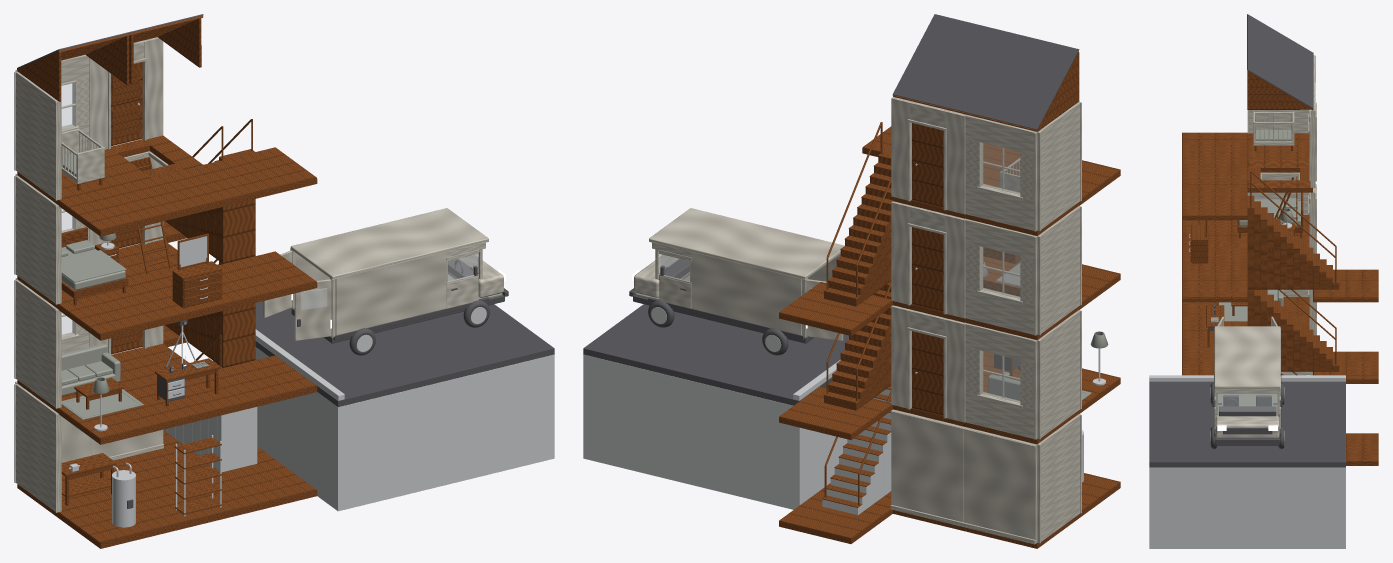
The model's file is paranormal-investigation-house-investiga-30208f4c-starter-scene__26895.glb.
3 renders of one model, left to right at view 1: azimuth 30°, elevation 25°; view 2: azimuth 150°, elevation 25°; view 3: azimuth 270°, elevation 25°, orthographic. The views are drawn at different scales.
Parts seen in each view (by area): view 1: 059-cutaway-road-plinth/0, 060-investigation-van-rear-open/2, 059-cutaway-road-plinth/1, 010-exterior-wall/0, 020-exterior-wall/0, 030-exterior-wall/0, 038-exterior-wall/0, 018-house-staircase/0, 028-house-staircase/0, 008-basement-stair/0, 037-interior-door/0, 033-wood-floor/1 (+50 smaller); view 2: 059-cutaway-road-plinth/0, 060-investigation-van-rear-open/2, 059-cutaway-road-plinth/1, 006-interior-wall/0, 007-fuse-box-wall/0, 052-roof-slope/1, 053-roof-slope/1, 036-exterior-window/0, 016-exterior-window/0, 026-exterior-window/0, 037-interior-door/0, 027-interior-door/0 (+40 smaller); view 3: 059-cutaway-road-plinth/0, 059-cutaway-road-plinth/1, 060-investigation-van-rear-open/2, 028-house-staircase/0, 018-house-staircase/0, 053-roof-slope/1, 025-wood-floor/1, 033-wood-floor/1, 035-wood-floor/1, 052-roof-slope/1, 034-wood-floor/1, 024-wood-floor/1 (+34 smaller).
Part boxes in pixels (x1=…): 059-cutaway-road-plinth/0: x1=213, y1=329, x2=554, y2=511; 060-investigation-van-rear-open/2: x1=290, y1=208, x2=503, y2=337; 059-cutaway-road-plinth/1: x1=255, y1=301, x2=554, y2=407; 010-exterior-wall/0: x1=15, y1=383, x2=58, y2=511; 020-exterior-wall/0: x1=15, y1=279, x2=58, y2=407; 030-exterior-wall/0: x1=15, y1=175, x2=58, y2=302; 038-exterior-wall/0: x1=15, y1=71, x2=58, y2=198; 018-house-staircase/0: x1=165, y1=262, x2=255, y2=367; 028-house-staircase/0: x1=165, y1=158, x2=255, y2=263; 008-basement-stair/0: x1=163, y1=368, x2=257, y2=472; 037-interior-door/0: x1=91, y1=37, x2=163, y2=149; 033-wood-floor/1: x1=59, y1=182, x2=172, y2=231; 059-cutaway-road-plinth/0: x1=583, y1=354, x2=847, y2=509; 060-investigation-van-rear-open/2: x1=634, y1=208, x2=844, y2=337; 059-cutaway-road-plinth/1: x1=583, y1=304, x2=848, y2=405; 006-interior-wall/0: x1=963, y1=427, x2=1037, y2=543; 007-fuse-box-wall/0: x1=891, y1=409, x2=964, y2=522; 052-roof-slope/1: x1=965, y1=31, x2=1079, y2=129; 053-roof-slope/1: x1=892, y1=14, x2=1006, y2=112; 036-exterior-window/0: x1=964, y1=114, x2=1037, y2=230; 016-exterior-window/0: x1=964, y1=322, x2=1036, y2=438; 026-exterior-window/0: x1=964, y1=218, x2=1036, y2=334; 037-interior-door/0: x1=891, y1=97, x2=964, y2=213; 027-interior-door/0: x1=891, y1=201, x2=964, y2=317; 059-cutaway-road-plinth/0: x1=1149, y1=375, x2=1345, y2=548; 059-cutaway-road-plinth/1: x1=1149, y1=381, x2=1345, y2=467; 060-investigation-van-rear-open/2: x1=1214, y1=326, x2=1280, y2=437; 028-house-staircase/0: x1=1247, y1=208, x2=1339, y2=289; 018-house-staircase/0: x1=1247, y1=290, x2=1339, y2=371; 053-roof-slope/1: x1=1247, y1=41, x2=1313, y2=108; 025-wood-floor/1: x1=1182, y1=269, x2=1247, y2=297; 033-wood-floor/1: x1=1182, y1=132, x2=1247, y2=160; 035-wood-floor/1: x1=1182, y1=188, x2=1247, y2=216; 052-roof-slope/1: x1=1247, y1=14, x2=1313, y2=80; 034-wood-floor/1: x1=1182, y1=160, x2=1247, y2=187; 024-wood-floor/1: x1=1182, y1=242, x2=1247, y2=269.
Size of the model in its own units: 12.08 by 12.42 by 7.
7 materials, 2 textured.
